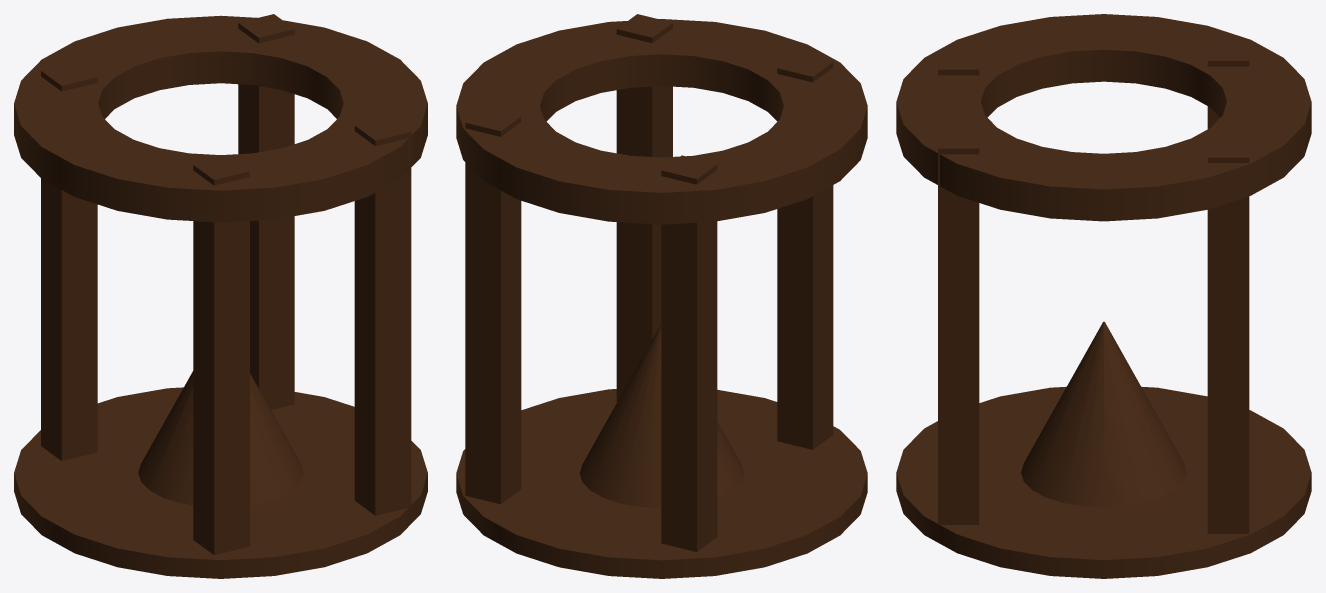
File: LanternNew.fbx
3 renders of one model, left to right at view 1: azimuth 30°, elevation 25°; view 2: azimuth 150°, elevation 25°; view 3: azimuth 270°, elevation 25°, orthographic.
Visible parts, largest first — view 1: block (×4), cylinderHollow, cylinder, cone; view 2: block (×4), cylinderHollow, cylinder, cone; view 3: cylinderHollow, cylinder, block (×4), cone.
Boxes of the visible parts, <box> form: block (×4): <box>41,14,411,554</box>; cylinderHollow: <box>14,15,427,222</box>; cylinder: <box>14,387,427,578</box>; cone: <box>138,371,303,505</box>; block (×4): <box>465,14,833,551</box>; cylinderHollow: <box>456,19,867,224</box>; cylinder: <box>456,389,867,578</box>; cone: <box>579,324,744,507</box>; cylinderHollow: <box>896,14,1311,221</box>; cylinder: <box>896,386,1311,578</box>; block (×4): <box>938,43,1249,533</box>; cone: <box>1021,321,1186,507</box>.
Bounding box in the file's own units: 10 × 10.5 × 10.
